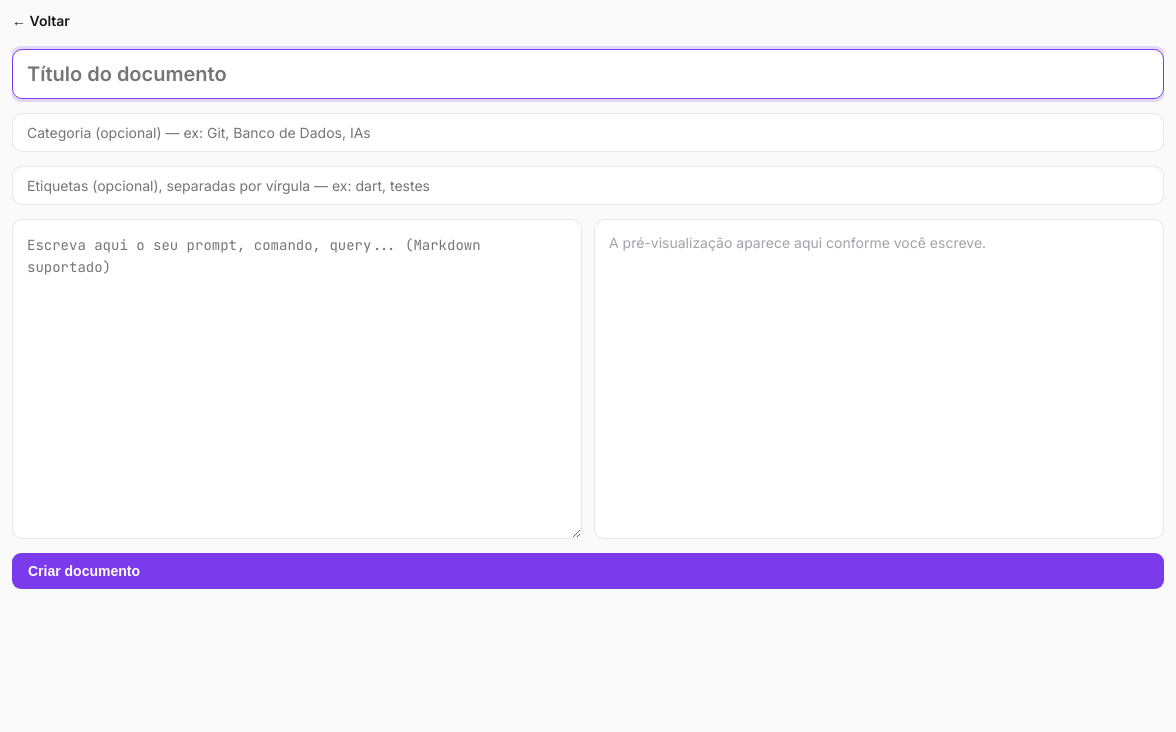
Test case: FormularioDocumento › CT-35: (criar) exibe o erro devolvido pela Server Action
In the field labelled "Título do documento": coordinates (588, 74) [12,49,1164,99], type "Meu título"
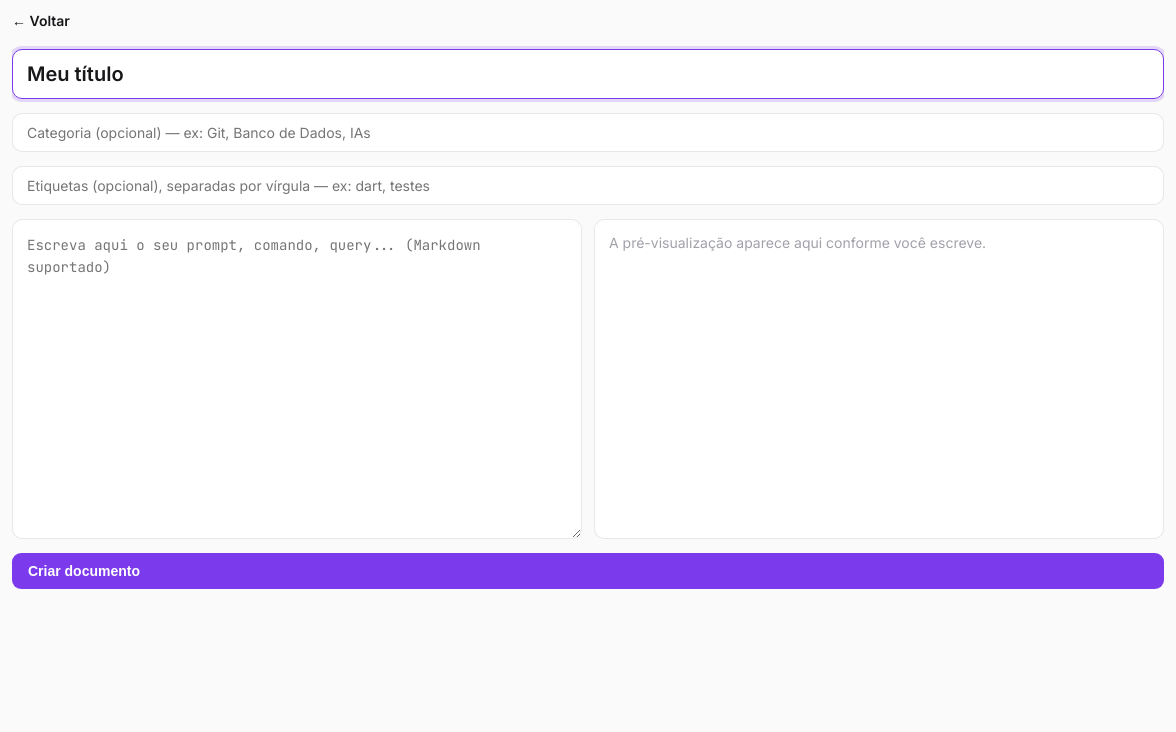
In the text box named "Conteúdo do documento": coordinates (297, 379) [12,219,582,539], type "algum conteúdo"
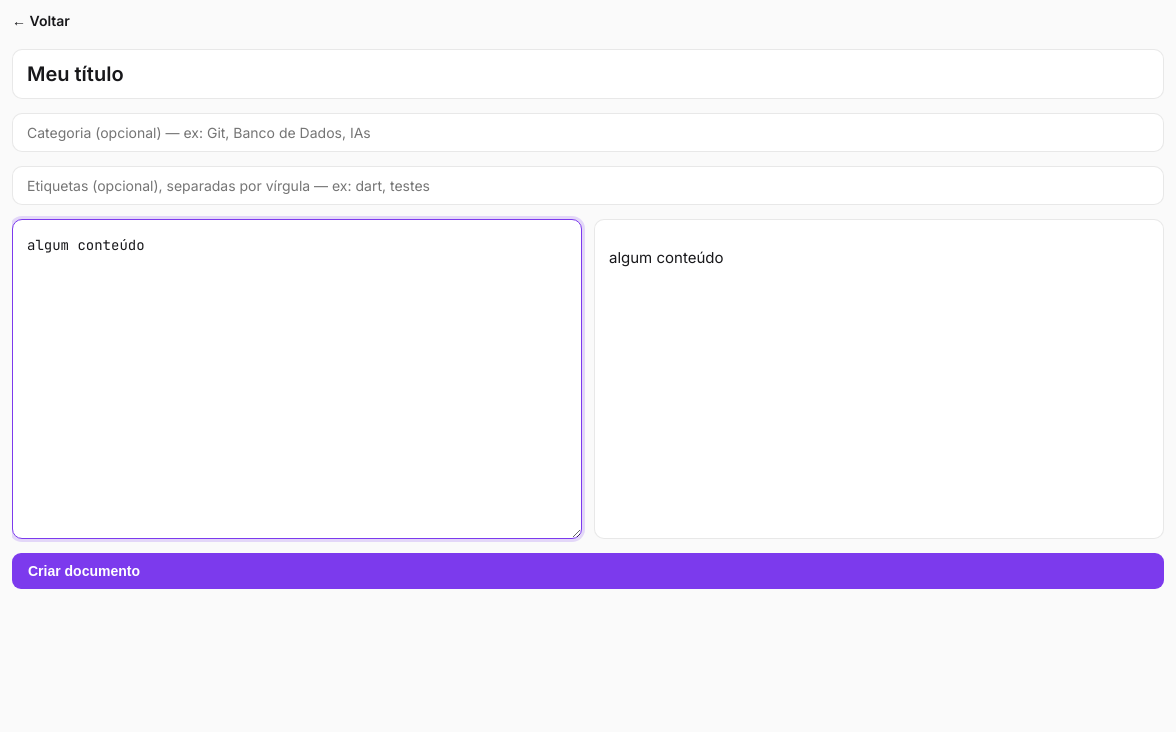
Click the button "Criar documento": coordinates (84, 571) [12,553,1164,589]
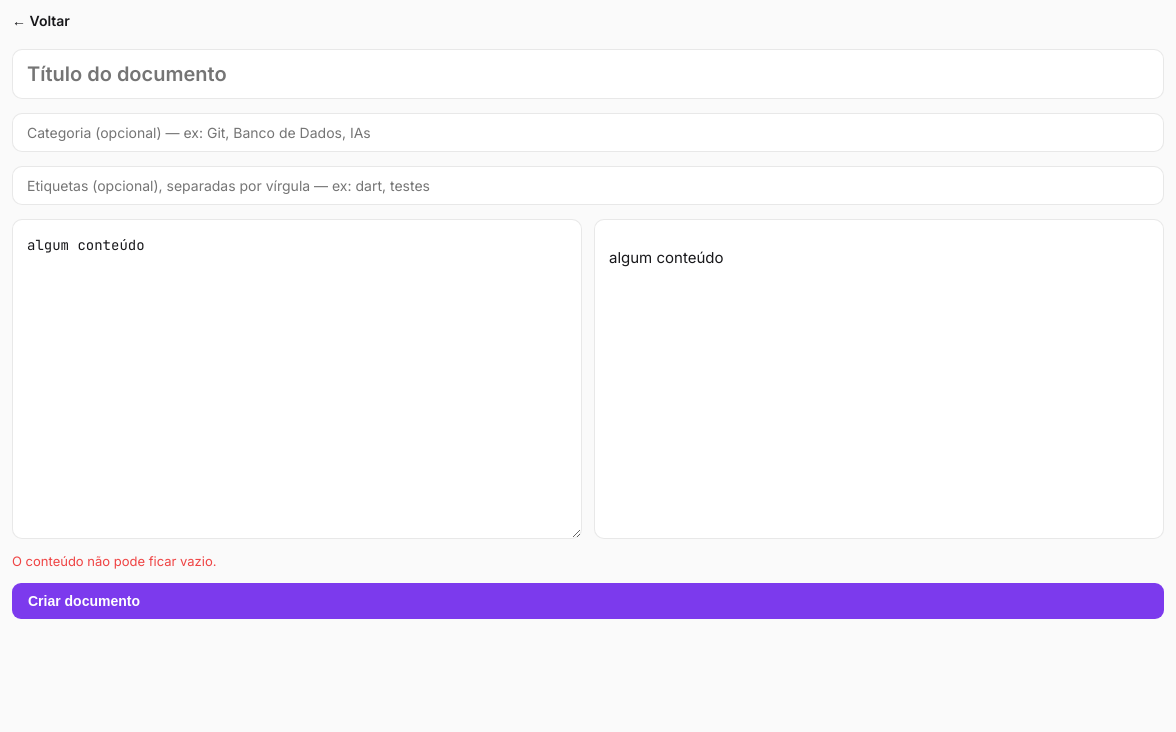
Result: the message reads "O conteúdo não pode ficar vazio." at [12,553,216,569]
